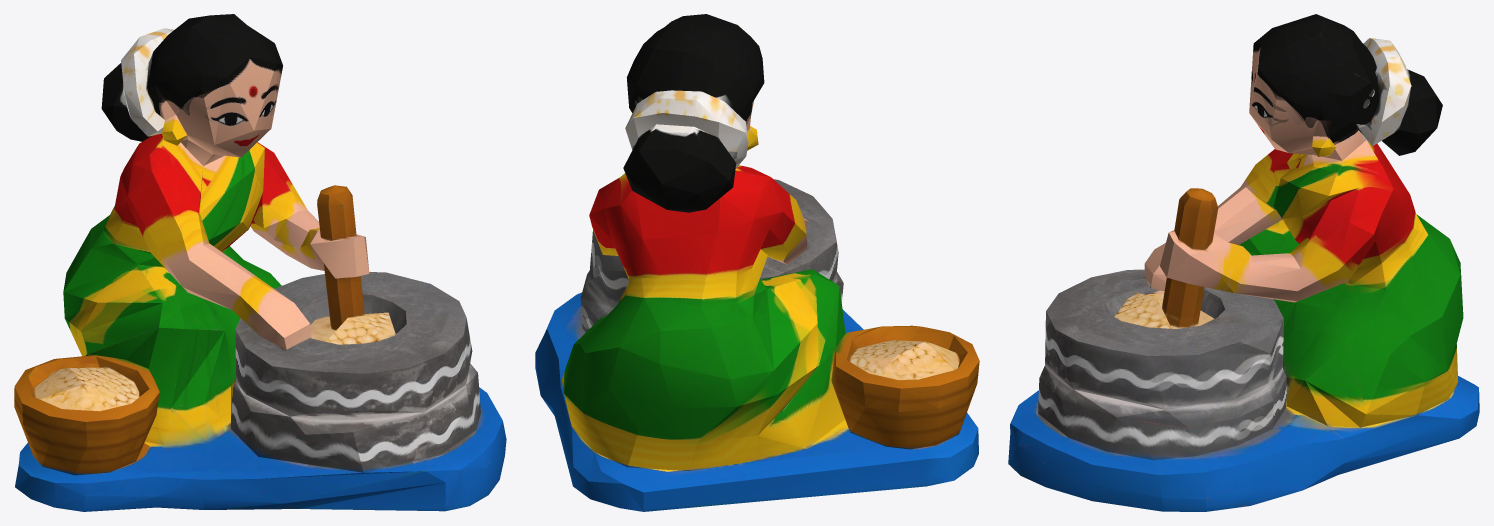
The model's file is women_grinding_wheat.glb.
3 renders of one model, left to right at view 1: azimuth 30°, elevation 25°; view 2: azimuth 150°, elevation 25°; view 3: azimuth 270°, elevation 25°, orthographic. The views are drawn at different scales.
Visible parts, largest first — view 1: mesh_000; view 2: mesh_000; view 3: mesh_000.
Part boxes in pixels (left/top/right/bottom): mesh_000: left=14, top=14, right=506, bottom=511; mesh_000: left=535, top=14, right=979, bottom=511; mesh_000: left=1008, top=14, right=1479, bottom=511.
Size of the model in its own units: 0.9614 by 0.8642 by 0.9326.
1 material, 1 textured.
